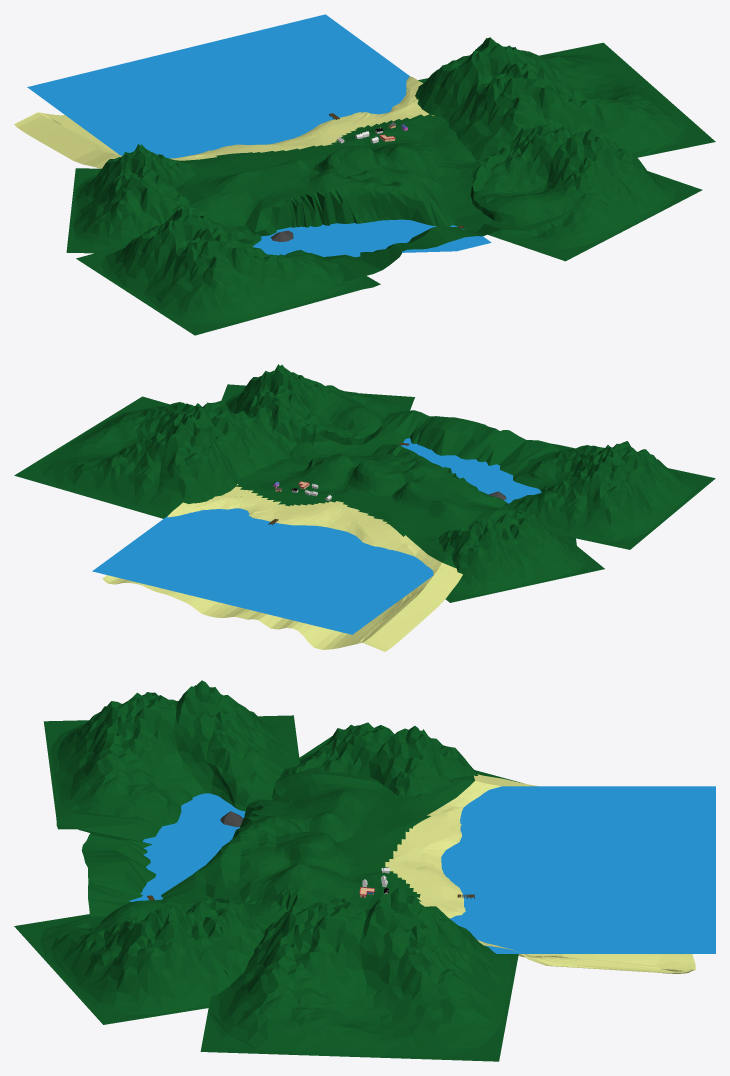
Rendered from Map.fbx.
3 views of the same model, one above another, from view 1: azimuth 30°, elevation 25°; view 2: azimuth 150°, elevation 25°; view 3: azimuth 270°, elevation 25° (orthographic). The views are drawn at different scales.
Parts seen in each view (by area): view 1: wata, land.002, Landscape, Landscape.004, Landscape.001, Landscape.003, land.001, Plane; view 2: wata, land.002, Landscape, Landscape.004, land.001, Landscape.001, Landscape.003, Plane; view 3: wata, Landscape, land.002, Landscape.004, Landscape.001, land.001, Landscape.003, Plane.
Part boxes in pixels (x1=…): wata: x1=27, y1=14, x2=410, y2=158; land.002: x1=175, y1=114, x2=576, y2=282; Landscape: x1=415, y1=37, x2=715, y2=161; Landscape.004: x1=76, y1=208, x2=380, y2=335; Landscape.001: x1=470, y1=123, x2=702, y2=261; Landscape.003: x1=66, y1=144, x2=206, y2=253; land.001: x1=14, y1=76, x2=434, y2=168; Plane: x1=253, y1=219, x2=491, y2=257; wata: x1=92, y1=508, x2=433, y2=634; land.002: x1=236, y1=394, x2=576, y2=568; Landscape: x1=14, y1=396, x2=290, y2=518; Landscape.004: x1=500, y1=441, x2=715, y2=549; land.001: x1=102, y1=484, x2=462, y2=651; Landscape.001: x1=221, y1=364, x2=414, y2=452; Landscape.003: x1=429, y1=510, x2=604, y2=602; Plane: x1=401, y1=438, x2=541, y2=503; wata: x1=441, y1=786, x2=715, y2=953; Landscape: x1=200, y1=887, x2=518, y2=1061; land.002: x1=72, y1=766, x2=474, y2=931; Landscape.004: x1=43, y1=680, x2=299, y2=829; Landscape.001: x1=14, y1=897, x2=265, y2=1024; land.001: x1=385, y1=774, x2=695, y2=973; Landscape.003: x1=285, y1=722, x2=522, y2=844; Plane: x1=129, y1=793, x2=245, y2=901.
Size of the model in its own units: 686 by 587 by 125.
